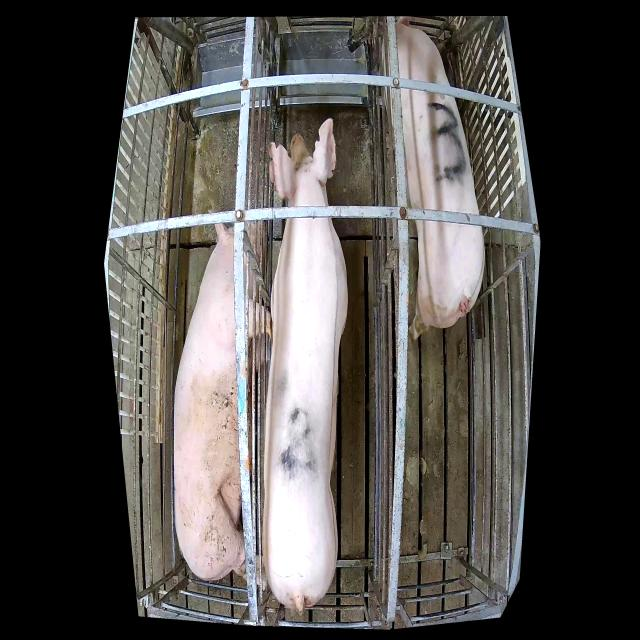pig: (262, 116, 349, 615), (174, 221, 274, 592), (382, 23, 485, 340)
